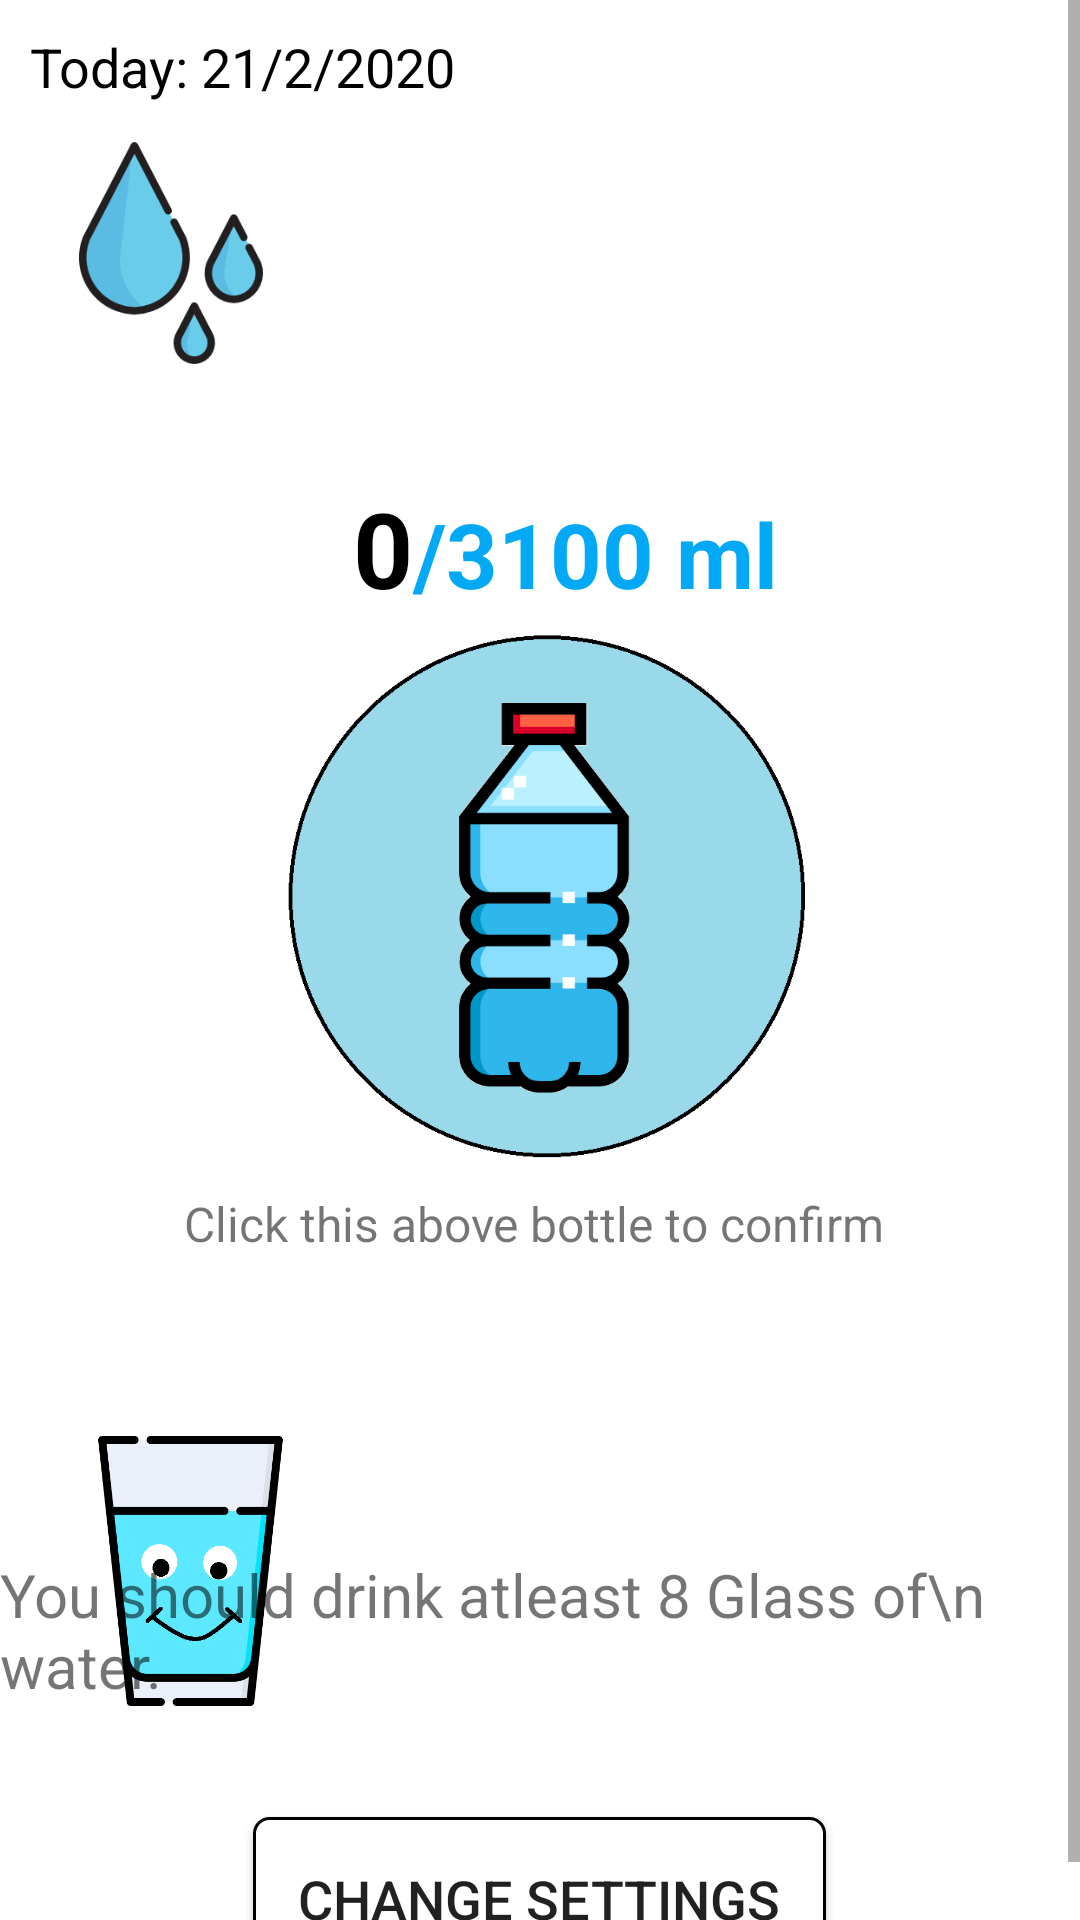

Named icons in this screenshot (1080px×1920px) and their bounding boxes, rect(x1, y1, x2, y2):
water drop: rect(79, 142, 263, 364)
